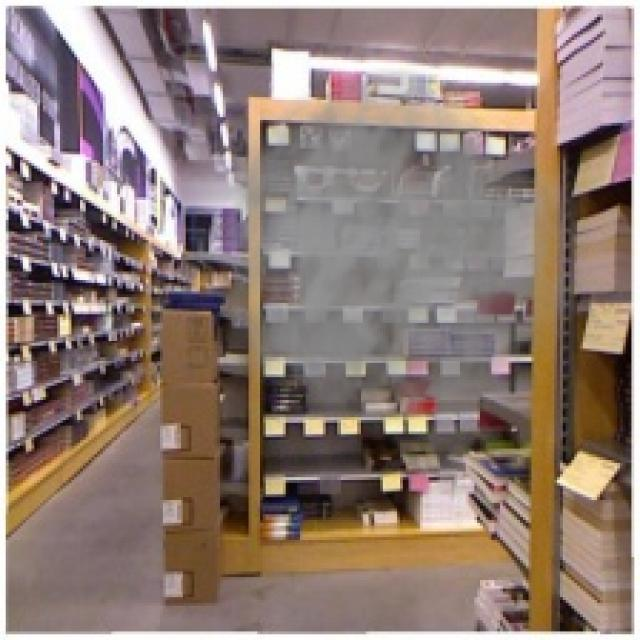Smoke: (200, 66, 589, 460)
